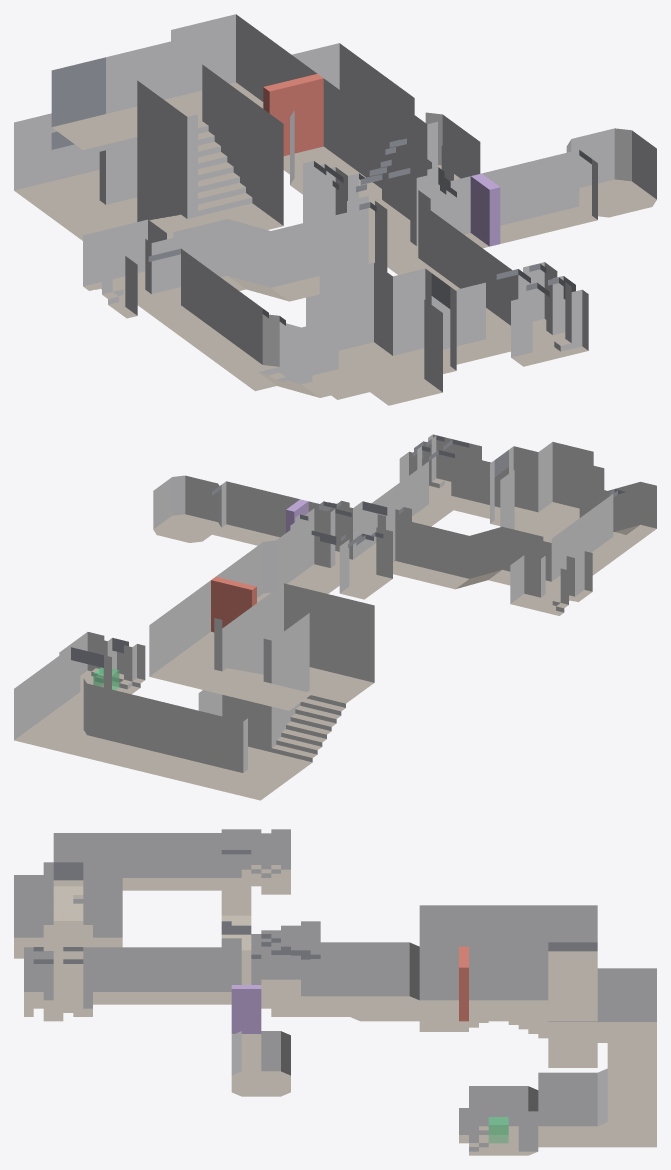
File: outpost_01.glb
The picture shows the model from 3 angles, top to bottom: view 1: azimuth 30°, elevation 25°; view 2: azimuth 150°, elevation 25°; view 3: azimuth 270°, elevation 25°; orthographic projection. The views are drawn at different scales.
Parts seen in each view (by area): view 1: room:5, corridor:5, corridor:1, corridor:4, corridor:0, corridor:3, room:4, entities, room:1/portals, room:1, corridor:2, room:0 (+7 smaller); view 2: room:5, corridor:4, corridor:5, corridor:1, corridor:0, room:1, room:4, room:1/portals, corridor:3, entities, corridor:2, room:3 (+8 smaller); view 3: corridor:1, corridor:5, corridor:4, room:5, corridor:2, room:1, room:2, room:4, entities, room:3, room:0, room:1/portals (+8 smaller).
Boxes of the visible parts, bbox=[...] form: room:5: bbox=[51, 41, 283, 240]; corridor:5: bbox=[148, 248, 503, 405]; corridor:1: bbox=[171, 14, 400, 220]; corridor:4: bbox=[14, 43, 414, 217]; corridor:0: bbox=[173, 212, 346, 301]; corridor:3: bbox=[438, 149, 597, 248]; room:4: bbox=[566, 128, 656, 217]; entities: bbox=[263, 74, 500, 246]; room:1/portals: bbox=[335, 167, 438, 271]; room:1: bbox=[303, 138, 431, 274]; corridor:2: bbox=[425, 210, 512, 332]; room:0: bbox=[83, 219, 180, 318]; room:5: bbox=[198, 583, 374, 779]; corridor:4: bbox=[14, 647, 288, 800]; corridor:5: bbox=[454, 442, 656, 583]; corridor:1: bbox=[149, 530, 330, 688]; corridor:0: bbox=[398, 522, 543, 589]; room:1: bbox=[290, 507, 411, 599]; room:4: bbox=[153, 475, 221, 542]; room:1/portals: bbox=[314, 500, 395, 593]; corridor:3: bbox=[212, 481, 333, 545]; entities: bbox=[93, 499, 308, 690]; corridor:2: bbox=[362, 465, 448, 555]; room:3: bbox=[399, 434, 481, 513]; corridor:1: bbox=[320, 942, 597, 1021]; corridor:5: bbox=[14, 833, 221, 991]; corridor:4: bbox=[538, 968, 656, 1147]; room:5: bbox=[419, 905, 597, 1067]; corridor:2: bbox=[93, 947, 221, 1004]; room:1: bbox=[221, 921, 320, 1016]; room:2: bbox=[469, 1086, 538, 1155]; room:4: bbox=[231, 1031, 290, 1096]; entities: bbox=[231, 946, 508, 1143]; room:3: bbox=[24, 947, 92, 1016]; room:0: bbox=[221, 829, 290, 894]; room:1/portals: bbox=[221, 934, 320, 996].
Size of the model in its own units: 50 by 15 by 65.
